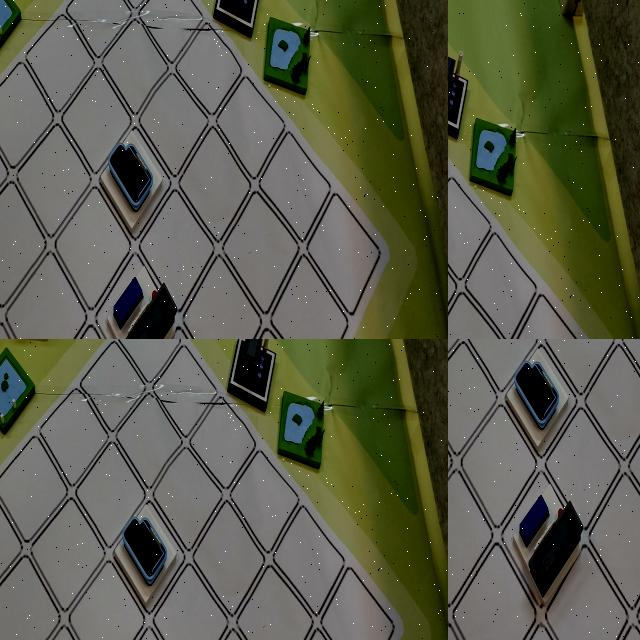bus_stop: (504, 471, 590, 608), (52, 0, 128, 54), (448, 152, 471, 234)
factory: (107, 126, 194, 261), (147, 536, 215, 640), (82, 369, 142, 461), (616, 339, 640, 394)
fish_pool: (216, 365, 278, 453), (212, 0, 282, 45), (448, 339, 481, 388)
forest: (11, 101, 97, 239), (75, 549, 145, 640), (575, 339, 635, 388), (448, 223, 470, 307)
gogo_shop: (503, 342, 579, 458), (44, 7, 118, 117), (78, 447, 140, 548), (448, 176, 468, 247)
research_build: (126, 0, 199, 129), (149, 354, 205, 443), (448, 339, 485, 395)
restaurant: (210, 22, 290, 146), (151, 435, 219, 542), (448, 236, 468, 313), (448, 339, 477, 388)
silicate_rock: (45, 195, 133, 339), (452, 339, 517, 390), (112, 606, 176, 640), (448, 86, 471, 158)
volunteer_center: (0, 243, 65, 339), (0, 543, 58, 640), (448, 339, 478, 390)
wet_land: (3, 454, 68, 550), (0, 86, 40, 207)
